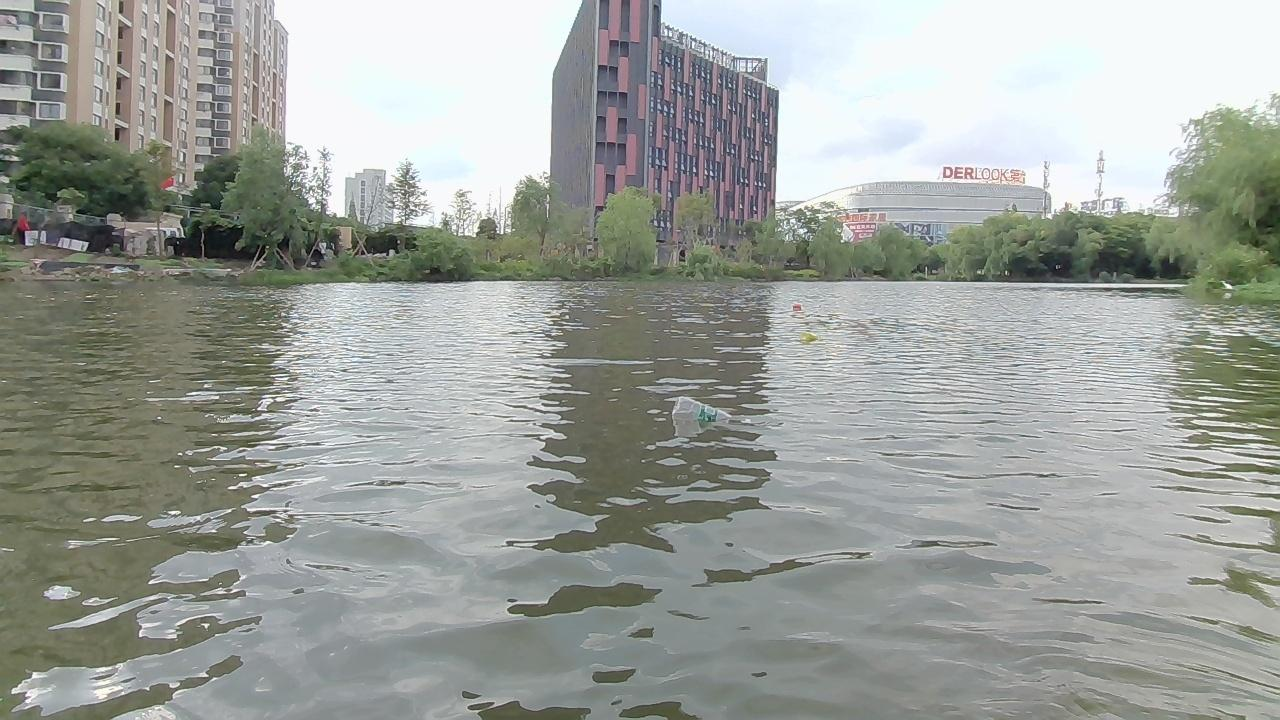bottle: (667, 396, 756, 432), (799, 330, 823, 343), (794, 301, 802, 312)
